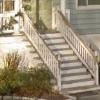stairs: (20, 31, 100, 95)
